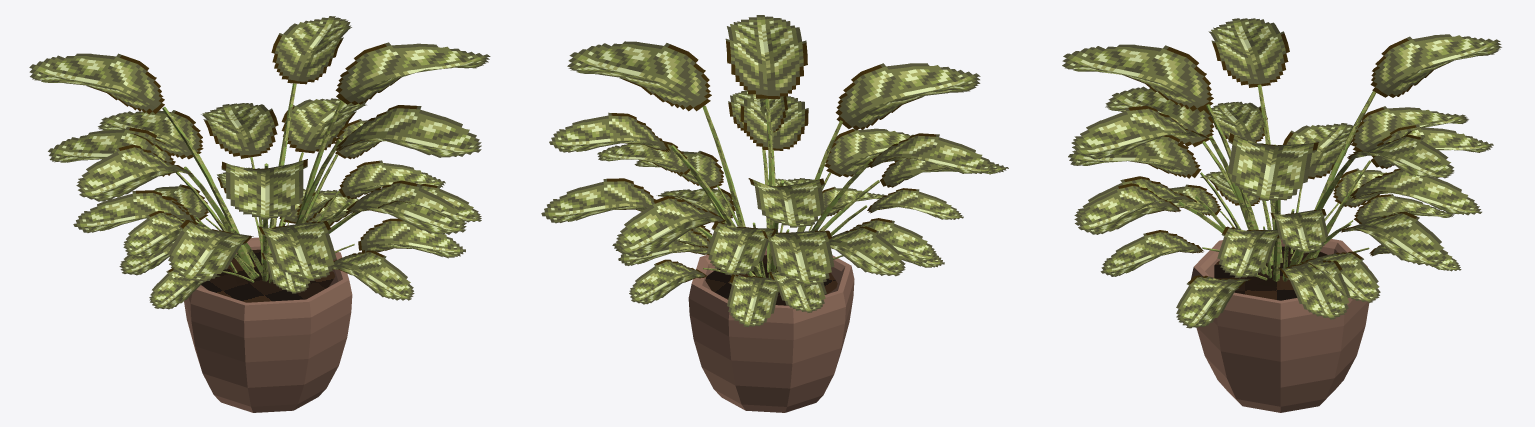
Rendered from plant_calathea.gltf.
The picture shows the model from 3 angles, left to right: view 1: azimuth 30°, elevation 25°; view 2: azimuth 150°, elevation 25°; view 3: azimuth 270°, elevation 25°; orthographic projection. The views are drawn at different scales.
Parts seen in each view (by area): view 1: Pot, Leaf_019, Leaf_018, Leaf_025, Leaf_023, Leaf_027, Leaf_014, Leaf_016, Leaf_012, Leaf_001, Leaf_000, Leaf_006 (+21 smaller); view 2: Pot, Leaf_019, Leaf_025, Leaf_023, Leaf_000, Leaf_006, Leaf_027, Leaf_008, Leaf_014, Leaf_018, Leaf_007, Leaf_016 (+19 smaller); view 3: Pot, Leaf_023, Leaf_018, Leaf_019, Leaf_014, Leaf_025, Leaf_006, Leaf_000, Leaf_017, Leaf_004, Leaf_008, Leaf_016 (+21 smaller).
Part boxes in pixels (x1,y1,x2,y2): Pot: [184, 237, 352, 412]; Leaf_019: [335, 42, 490, 105]; Leaf_018: [29, 53, 164, 114]; Leaf_025: [336, 105, 481, 157]; Leaf_023: [221, 159, 307, 219]; Leaf_027: [271, 16, 351, 84]; Leaf_014: [76, 144, 192, 201]; Leaf_016: [257, 221, 336, 281]; Leaf_012: [345, 180, 466, 234]; Leaf_001: [168, 220, 253, 281]; Leaf_000: [201, 103, 278, 158]; Leaf_006: [281, 98, 366, 153]; Pot: [688, 247, 854, 412]; Leaf_019: [567, 41, 711, 111]; Leaf_025: [725, 15, 807, 98]; Leaf_023: [835, 63, 980, 130]; Leaf_000: [616, 196, 725, 257]; Leaf_006: [541, 178, 655, 223]; Leaf_027: [549, 112, 670, 152]; Leaf_008: [761, 230, 834, 285]; Leaf_014: [868, 133, 995, 173]; Leaf_018: [748, 178, 824, 227]; Leaf_007: [707, 221, 777, 275]; Leaf_016: [824, 128, 913, 177]; Pot: [1191, 239, 1369, 412]; Leaf_023: [1062, 44, 1213, 111]; Leaf_018: [1370, 34, 1501, 97]; Leaf_019: [1228, 133, 1318, 200]; Leaf_014: [1208, 18, 1289, 87]; Leaf_025: [1071, 105, 1214, 159]; Leaf_006: [1340, 211, 1446, 266]; Leaf_000: [1350, 168, 1481, 215]; Leaf_017: [1077, 183, 1180, 234]; Leaf_004: [1279, 260, 1350, 319]; Leaf_008: [1351, 106, 1468, 151]; Leaf_016: [1068, 135, 1201, 178].
Bounding box in the file's own units: 4.66 × 3.19 × 4.39.
4 materials, 4 textured.
